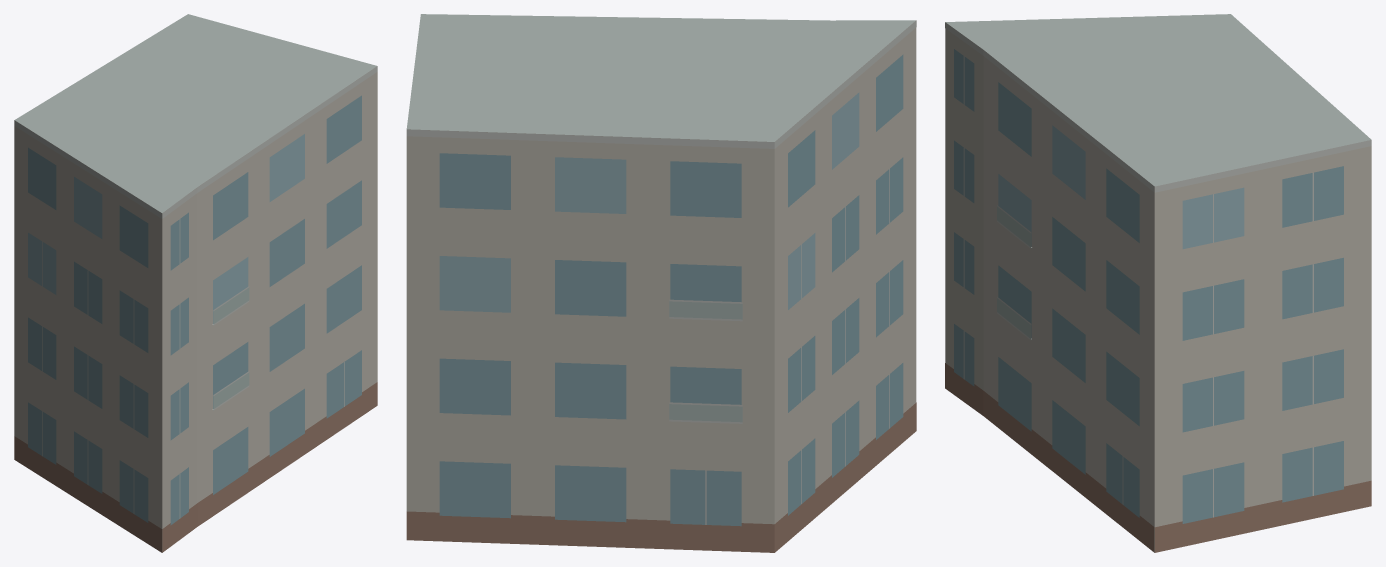
The model's file is survey-upis-32715525.glb.
3 renders of one model, left to right at view 1: azimuth 30°, elevation 25°; view 2: azimuth 150°, elevation 25°; view 3: azimuth 270°, elevation 25°, orthographic. The views are drawn at different scales.
Visible parts, largest first — view 1: survey-upis-32715525.tmp; view 2: survey-upis-32715525.tmp; view 3: survey-upis-32715525.tmp.
Part boxes in pixels (x1,y1,x2,y2): survey-upis-32715525.tmp: (14, 14, 377, 552); survey-upis-32715525.tmp: (406, 14, 916, 552); survey-upis-32715525.tmp: (945, 14, 1371, 552).
Size of the model in its own units: 14.56 by 14.4 by 15.2.
